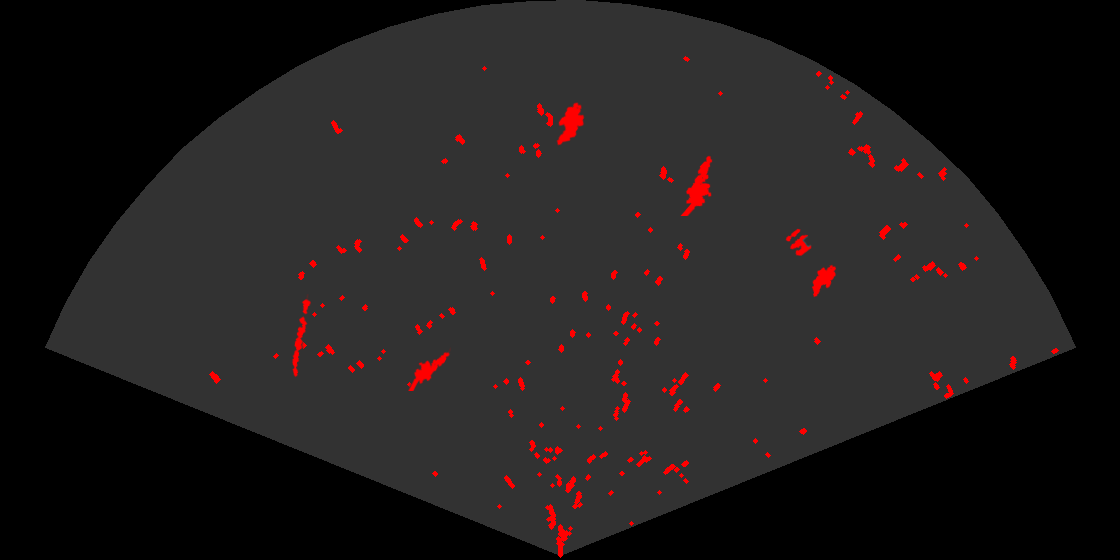AUV: (555, 101, 586, 147), (810, 263, 838, 299)
ball: (784, 227, 813, 258)
chain: (290, 294, 312, 378)
frogman: (679, 154, 714, 216), (407, 346, 451, 391)
